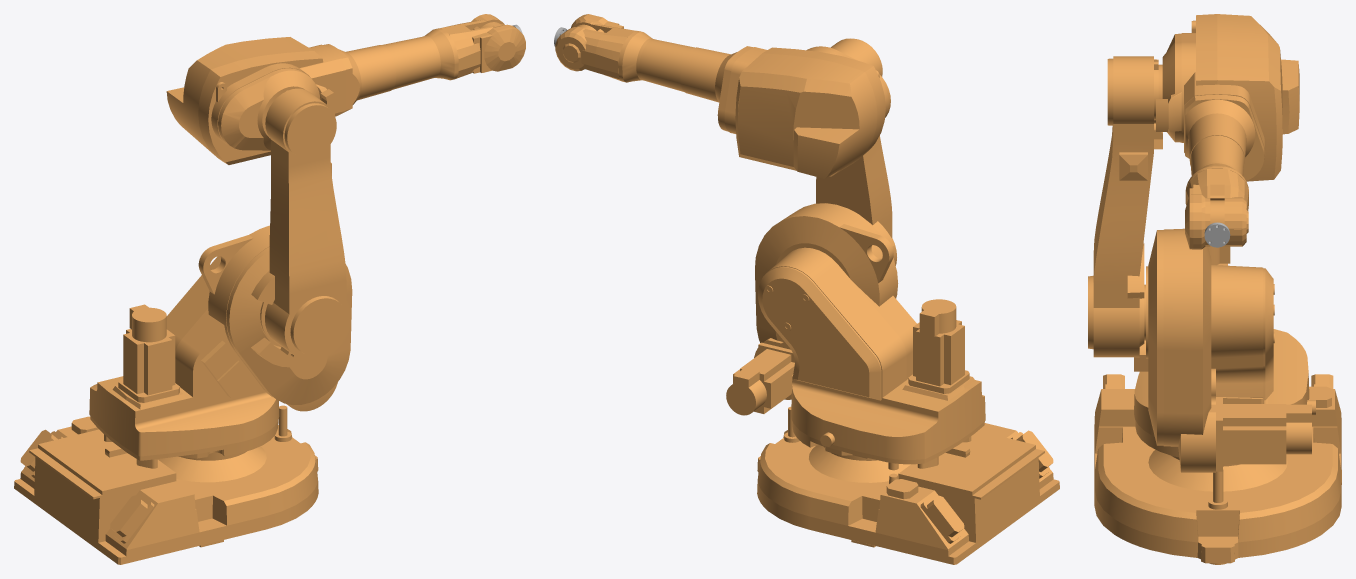
File: ABBrobot.glb
3 views of the same model, side by side, from view 1: azimuth 30°, elevation 25°; view 2: azimuth 150°, elevation 25°; view 3: azimuth 270°, elevation 25° (orthographic). The views are drawn at different scales.
Parts seen in each view (by area): view 1: Link_1, Base, Link_2, Link_3, Link_4; view 2: Link_1, Base, Link_3, Link_4, Link_2; view 3: Link_1, Base, Link_3, Link_2, Link_4, Link_6, Link_5.
Boxes of the visible parts, x1,y1,x2,y2 form: Link_1: (89, 225, 352, 468); Base: (14, 405, 318, 564); Link_2: (251, 88, 351, 360); Link_3: (166, 37, 396, 164); Link_4: (382, 14, 525, 89); Link_1: (726, 203, 985, 470); Base: (757, 406, 1059, 564); Link_3: (680, 46, 890, 178); Link_4: (555, 14, 694, 91); Link_2: (816, 38, 896, 265); Link_1: (1134, 228, 1315, 472); Base: (1094, 374, 1341, 564); Link_3: (1156, 14, 1299, 181); Link_2: (1088, 56, 1162, 357); Link_4: (1185, 135, 1248, 249); Link_6: (1204, 222, 1230, 247); Link_5: (1210, 200, 1224, 241).
Bounding box in the file's own units: 1.2 × 1.07 × 0.4957.
